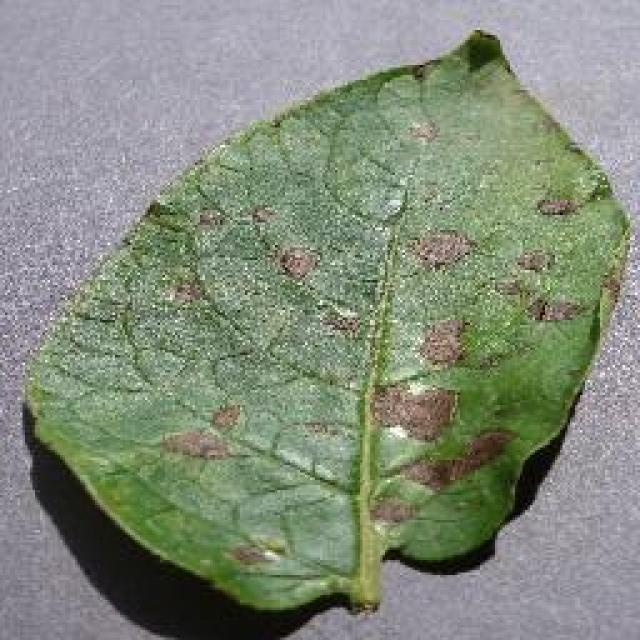early_blight: (17, 25, 635, 620)
